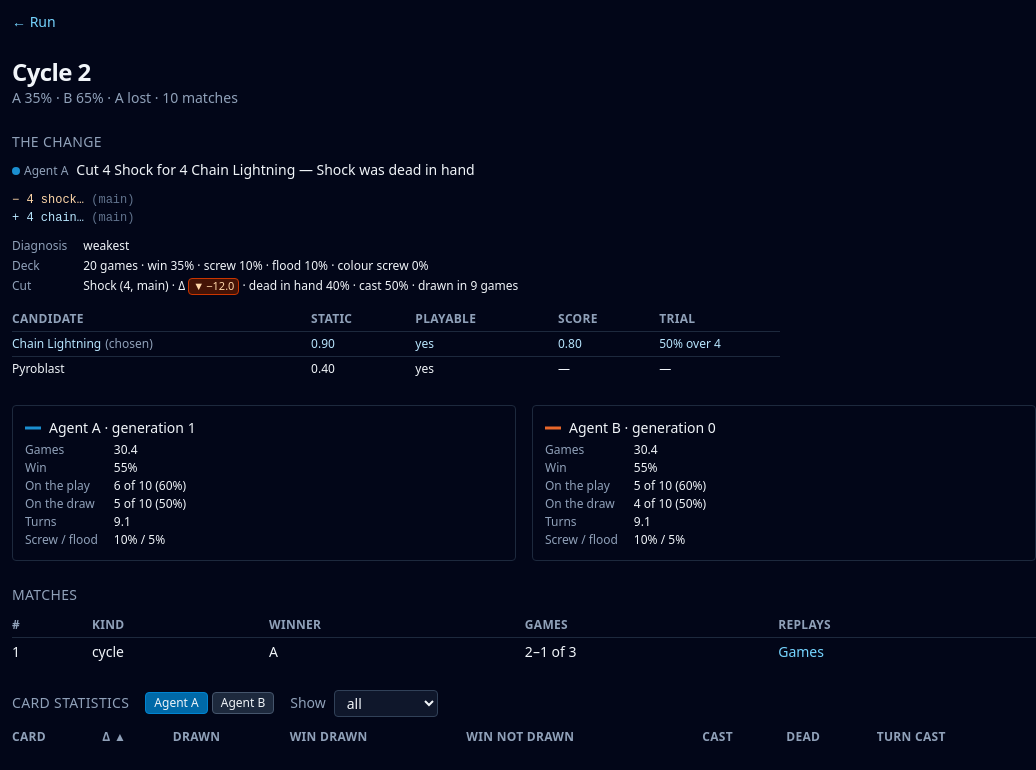
Test: the cycle page › opens a match to its games, each a link to its replay when its log was kept
This screenshot has width=1036, height=770.
Click the button "Games" at (801, 652), box 778,642 -> 824,662
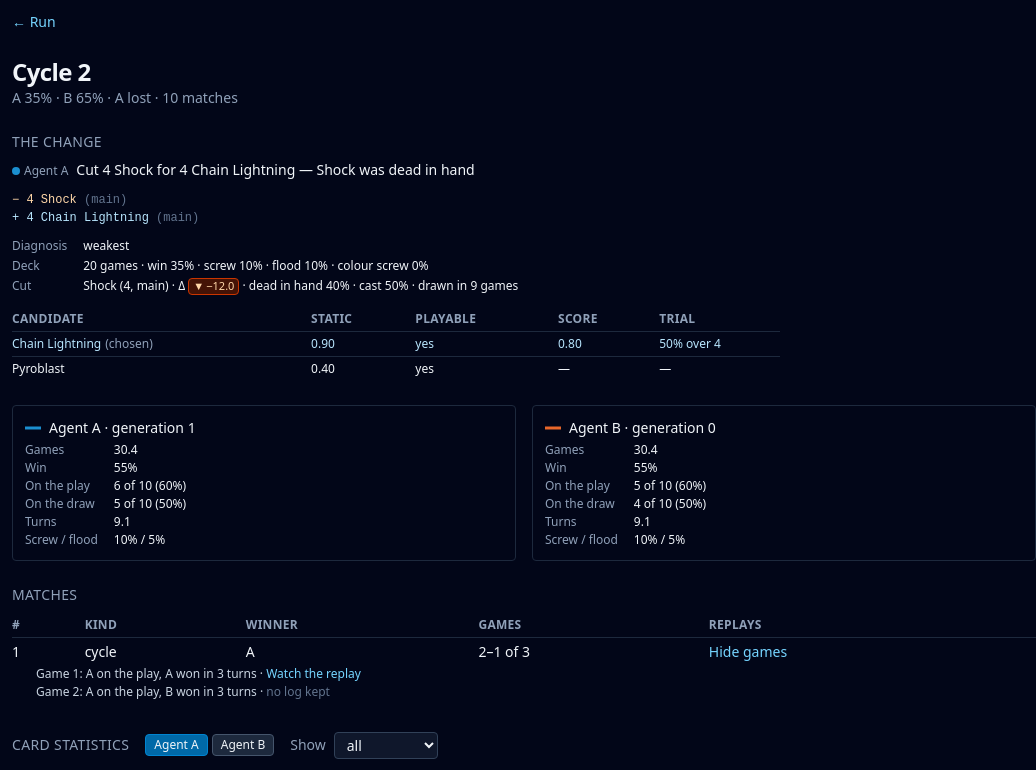
Expected: the list item "Game 1: A on the play, A won in 3 turns · Watch the replay" is shown, 36,665 -> 361,682
Expected: the list item "Game 2: A on the play, B won in 3 turns · no log kept" is shown, 36,683 -> 330,700
